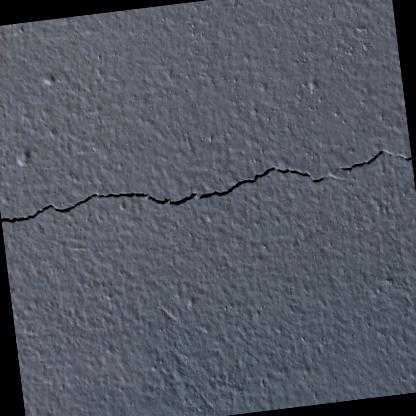crack: (0, 149, 412, 221)
